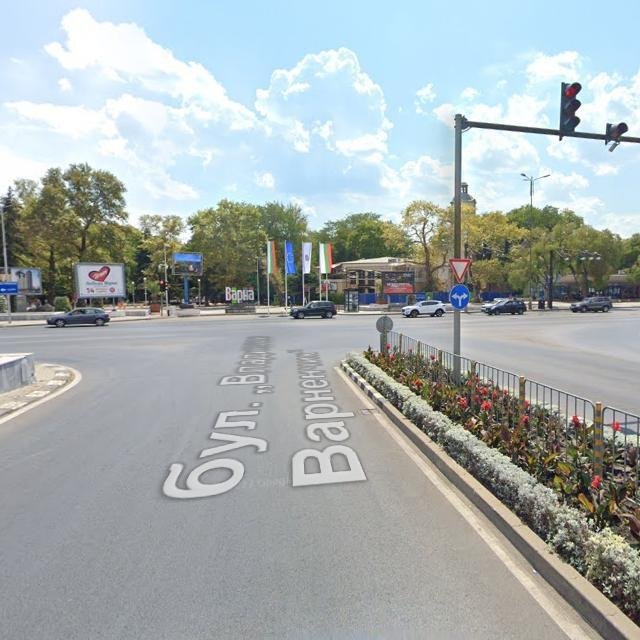prio_give_way: (448, 258, 471, 284)
